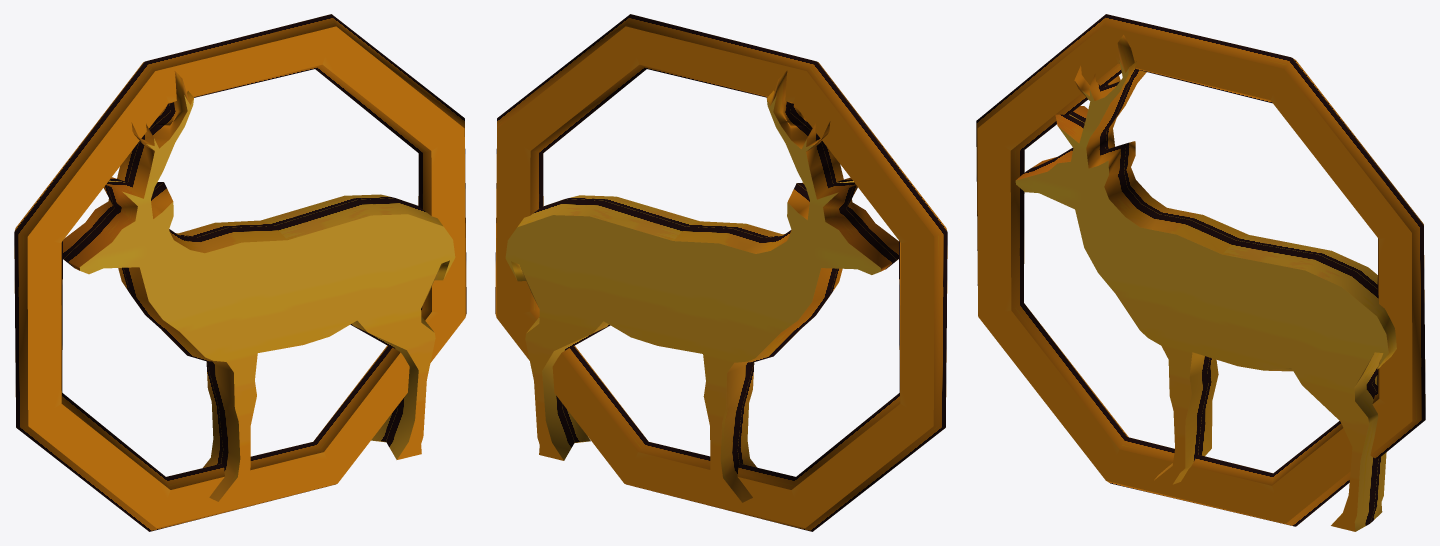
Rendered from copy.ico.obj.
The picture shows the model from 3 angles, left to right: view 1: azimuth 30°, elevation 25°; view 2: azimuth 150°, elevation 25°; view 3: azimuth 330°, elevation 25°; orthographic projection.
Bounding box in the file's own units: 4.23 × 4.23 × 0.4375.
Materials: 1 (1 with a texture image).
